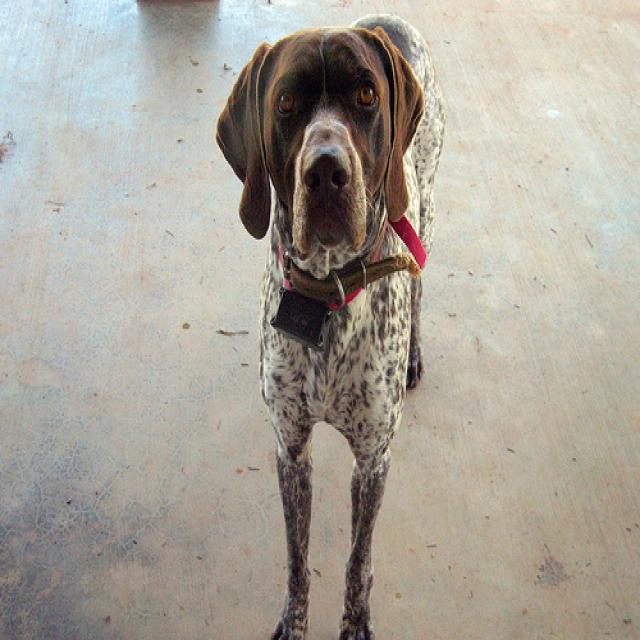dog-german_shorthaired: (206, 9, 451, 637)
